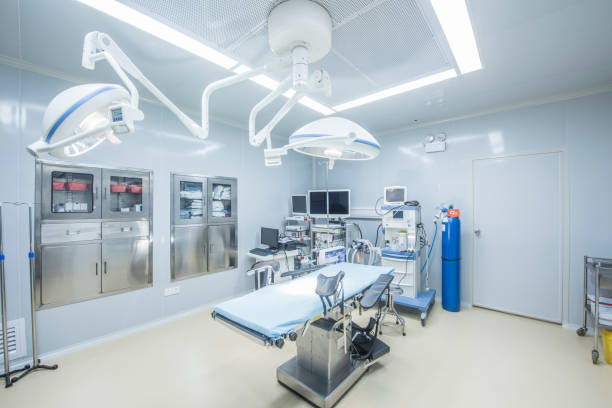bedside_monitor: (308, 190, 352, 217), (385, 186, 410, 203), (290, 194, 307, 215)
breathing_tube: (342, 238, 375, 268)
cabinet: (33, 169, 155, 309), (172, 172, 239, 280)
computer: (261, 227, 280, 248)
door_handle: (471, 228, 482, 238)
handle: (196, 241, 209, 258), (89, 258, 100, 277), (102, 260, 113, 276), (209, 240, 217, 257)
iv_pole: (31, 194, 60, 388), (1, 205, 24, 385)
keyboard: (248, 248, 272, 256)
medical_drawer: (381, 254, 427, 307)
operating_bed: (211, 263, 396, 408)
surgical_light: (27, 84, 144, 159), (281, 117, 382, 161)
utility_cart: (577, 256, 612, 366)
ventilator: (376, 205, 424, 301)
